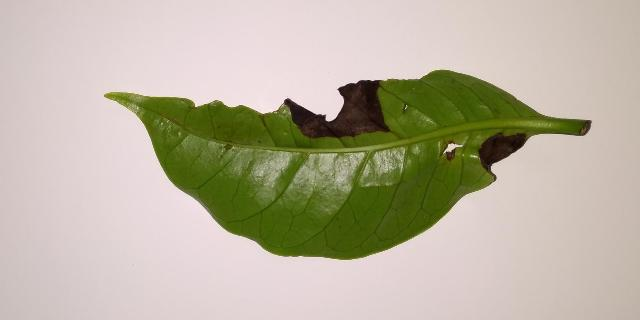rust: (283, 80, 389, 138), (478, 132, 533, 185), (444, 141, 456, 161)
